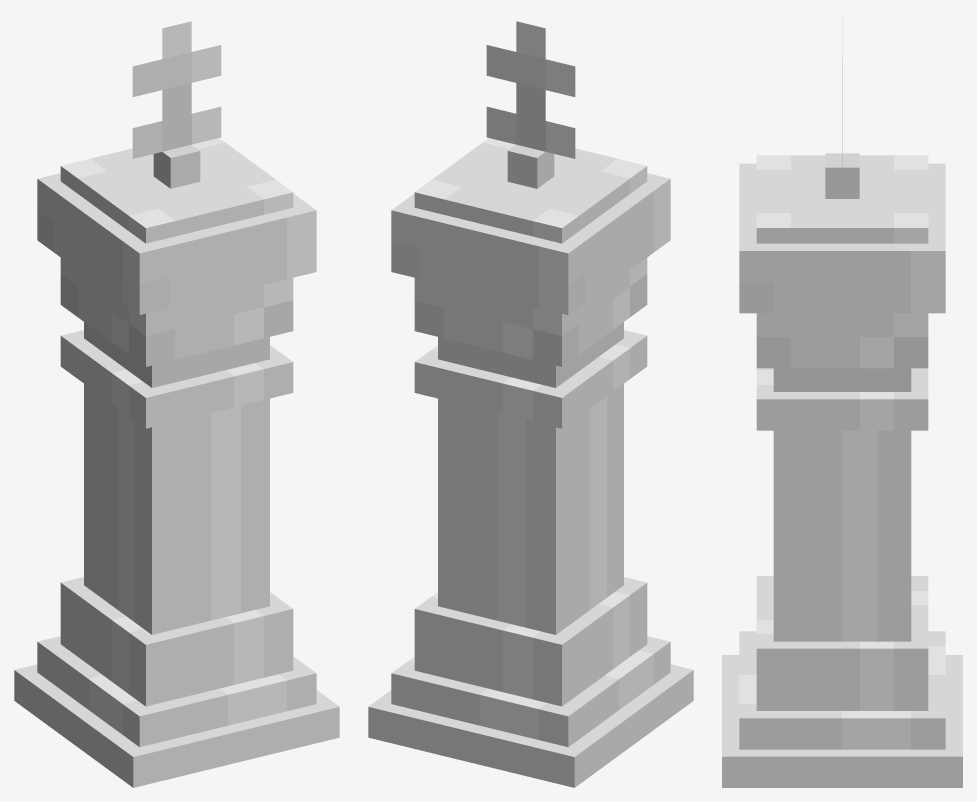
Rendered from king.gltf.
3 views of the same model, side by side, from view 1: azimuth 30°, elevation 25°; view 2: azimuth 150°, elevation 25°; view 3: azimuth 270°, elevation 25° (orthographic).
Visible parts, largest first — view 1: cube (×9); view 2: cube (×9); view 3: cube (×8).
Boxes of the visible parts, <box> form: cube (×9): <box>14,21,339,787</box>; cube (×9): <box>368,21,693,787</box>; cube (×8): <box>722,153,962,787</box>.
Bounding box in the file's own units: 0.4375 × 1.41 × 0.4375.
1 material, 1 textured.
